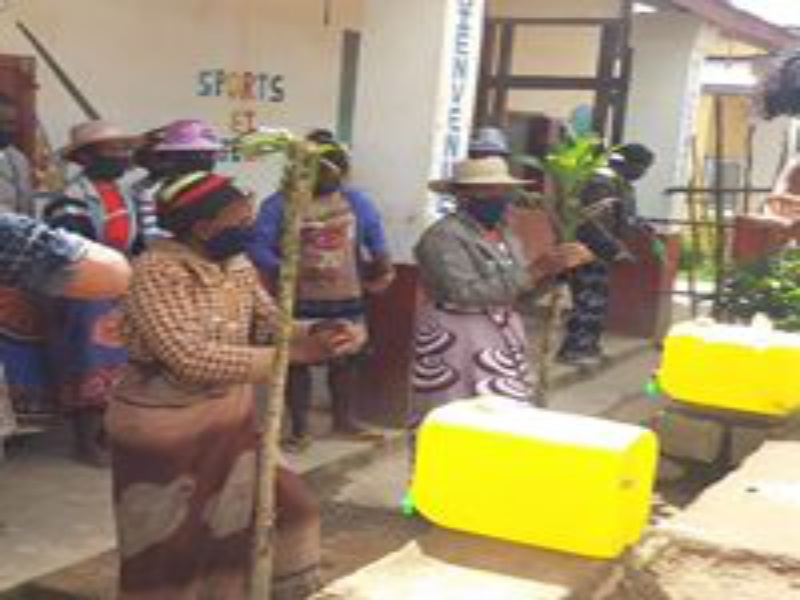ManaoArotava: (161, 166, 269, 273), (449, 154, 534, 246)
